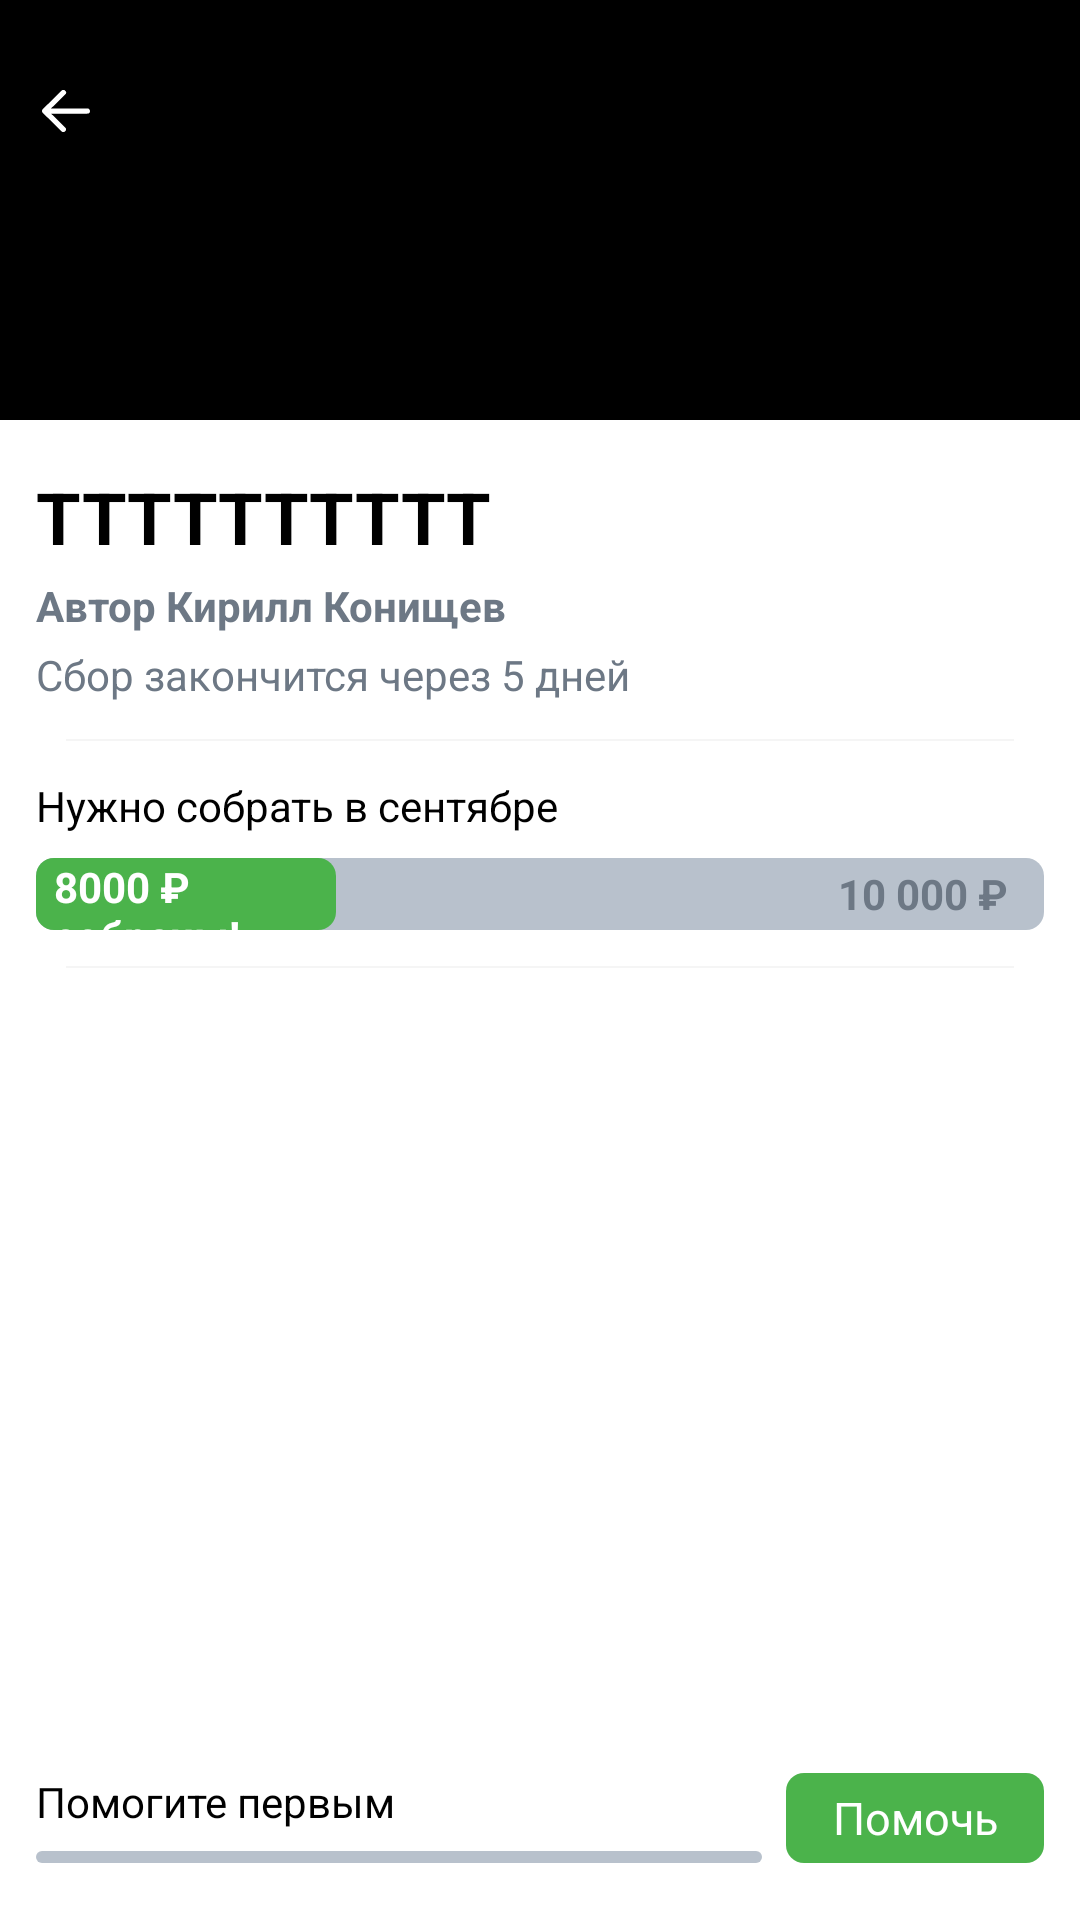

Icons on this 1080x1920 Android screen, each with the point to tap as (x,y):
back: (66,111)
